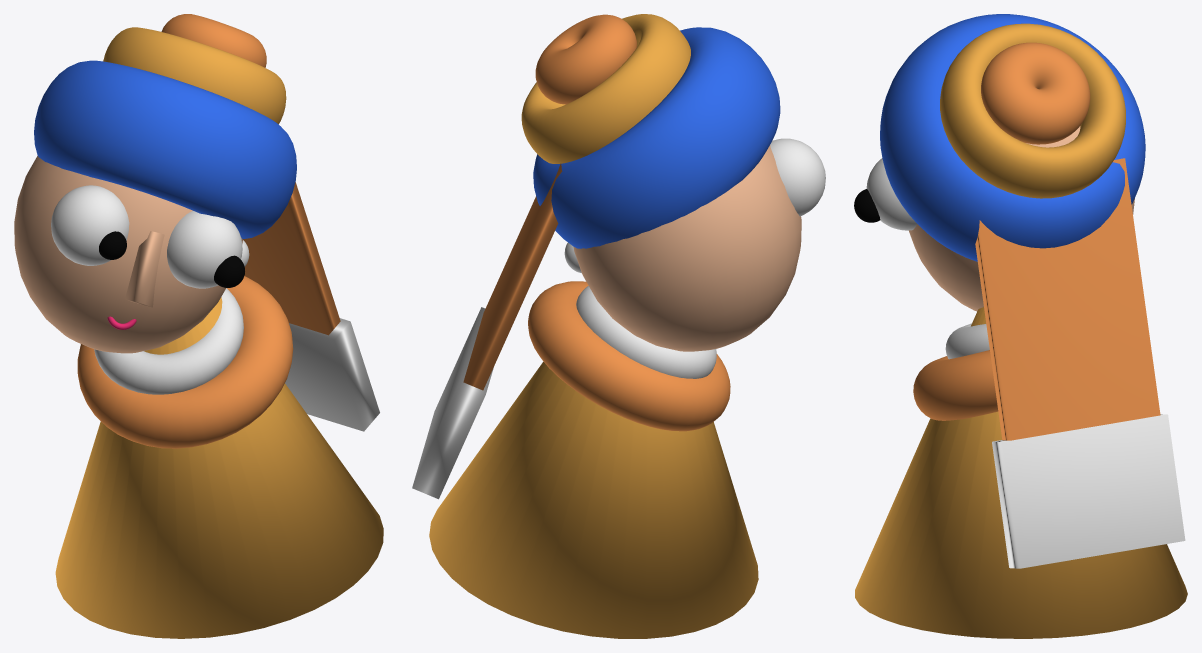
File: PearlEarring-v1.glb
The picture shows the model from 3 angles, left to right: view 1: azimuth 30°, elevation 25°; view 2: azimuth 150°, elevation 25°; view 3: azimuth 270°, elevation 25°; orthographic projection.
Parts seen in each view (by area): view 1: 锥体, 环体.004, 球体, 环体.010, 环体.006, 立方体.001, 立方体.002, 环体.001, 球体.001, 球体.002, 环体.009, 立方体 (+2 smaller); view 2: 锥体, 环体.004, 球体, 环体.010, 环体.006, 立方体.001, 环体.009, 立方体.002, 环体.001, 球体.001; view 3: 锥体, 立方体.001, 环体.004, 立方体.002, 环体.006, 环体.009, 环体.010, 球体, 球体.002, 环体.001, 球体.004.
Part boxes in pixels (x1=…): 锥体: x1=55, y1=297, x2=383, y2=638; 环体.004: x1=34, y1=60, x2=296, y2=239; 球体: x1=14, y1=156, x2=242, y2=353; 环体.010: x1=77, y1=276, x2=293, y2=448; 环体.006: x1=103, y1=27, x2=286, y2=124; 立方体.001: x1=243, y1=182, x2=340, y2=335; 立方体.002: x1=285, y1=318, x2=379, y2=431; 环体.001: x1=94, y1=288, x2=243, y2=394; 球体.001: x1=51, y1=185, x2=129, y2=265; 球体.002: x1=167, y1=211, x2=242, y2=288; 环体.009: x1=161, y1=14, x2=266, y2=67; 立方体: x1=125, y1=231, x2=164, y2=307; 锥体: x1=429, y1=361, x2=758, y2=638; 环体.004: x1=533, y1=27, x2=780, y2=248; 球体: x1=573, y1=145, x2=801, y2=351; 环体.010: x1=528, y1=281, x2=730, y2=431; 环体.006: x1=521, y1=14, x2=690, y2=163; 立方体.001: x1=463, y1=163, x2=562, y2=390; 环体.009: x1=535, y1=14, x2=636, y2=104; 立方体.002: x1=412, y1=307, x2=493, y2=499; 环体.001: x1=576, y1=286, x2=716, y2=378; 球体.001: x1=770, y1=138, x2=825, y2=216; 锥体: x1=855, y1=307, x2=1187, y2=638; 立方体.001: x1=975, y1=158, x2=1160, y2=440; 环体.004: x1=880, y1=14, x2=1145, y2=261; 立方体.002: x1=992, y1=414, x2=1185, y2=568; 环体.006: x1=940, y1=23, x2=1125, y2=198; 环体.009: x1=981, y1=42, x2=1090, y2=144; 环体.010: x1=913, y1=350, x2=998, y2=420; 球体: x1=909, y1=126, x2=1134, y2=311; 球体.002: x1=866, y1=158, x2=917, y2=230; 环体.001: x1=945, y1=323, x2=989, y2=359; 球体.004: x1=854, y1=189, x2=880, y2=222.
Size of the model in its own units: 3.56 by 5.39 by 2.89.
